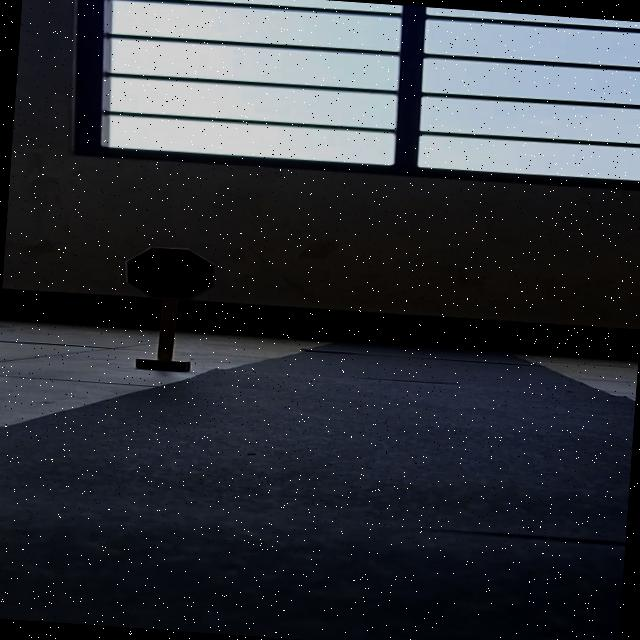Stop: (122, 244, 218, 303)
